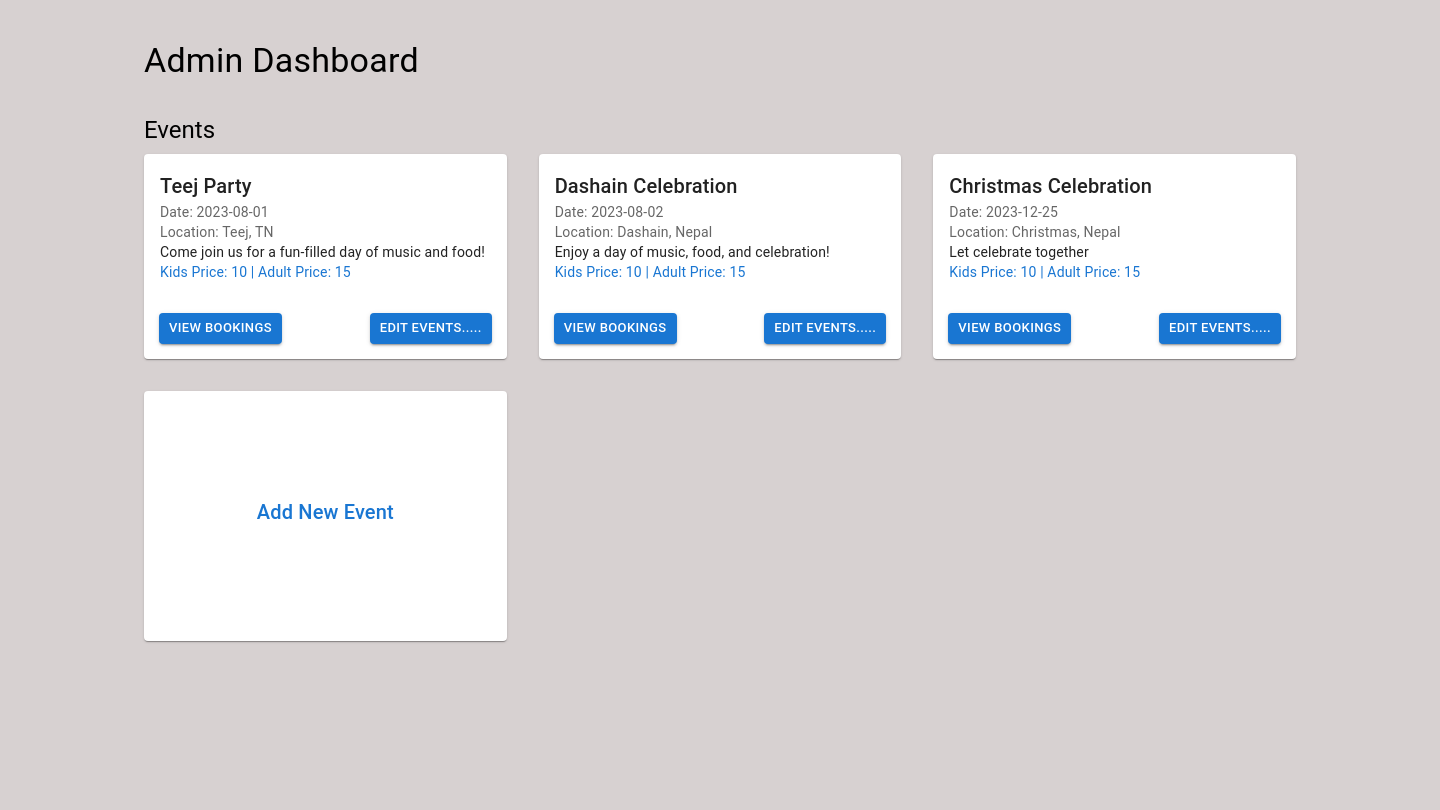
Scenario: Add Event Functionality › should close the modal when cancel button is clicked
The image size is (1440, 810).
Check: the heading "Teej Party" is shown, box [160,174,252,198]
Click the element with test id "add-event-button".
click(325, 512)  # box [257,500,394,524]
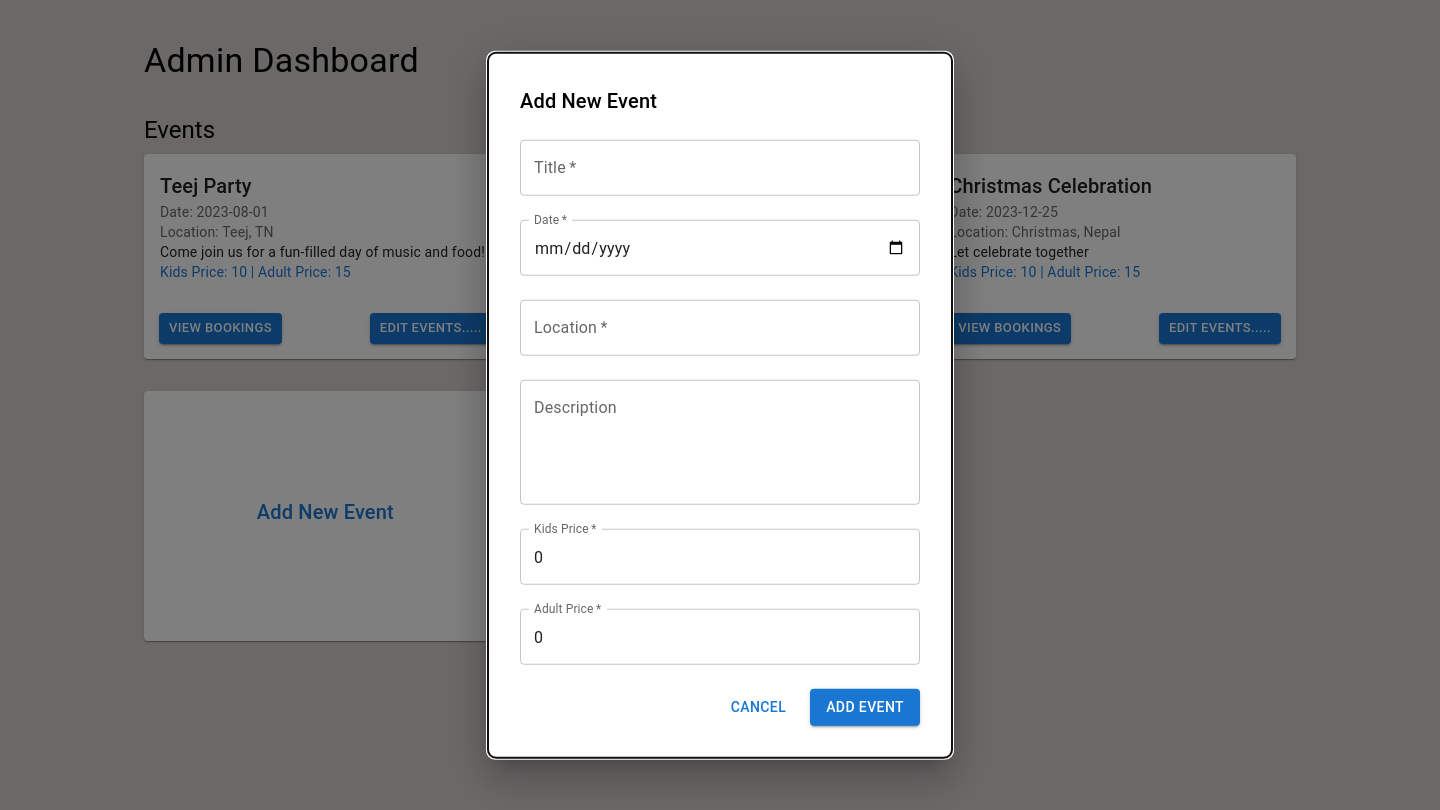
Check: the element with test id "add-event-modal" is shown
Click the button with test id "cancel-button".
click(758, 707)  # box [723,689,794,725]
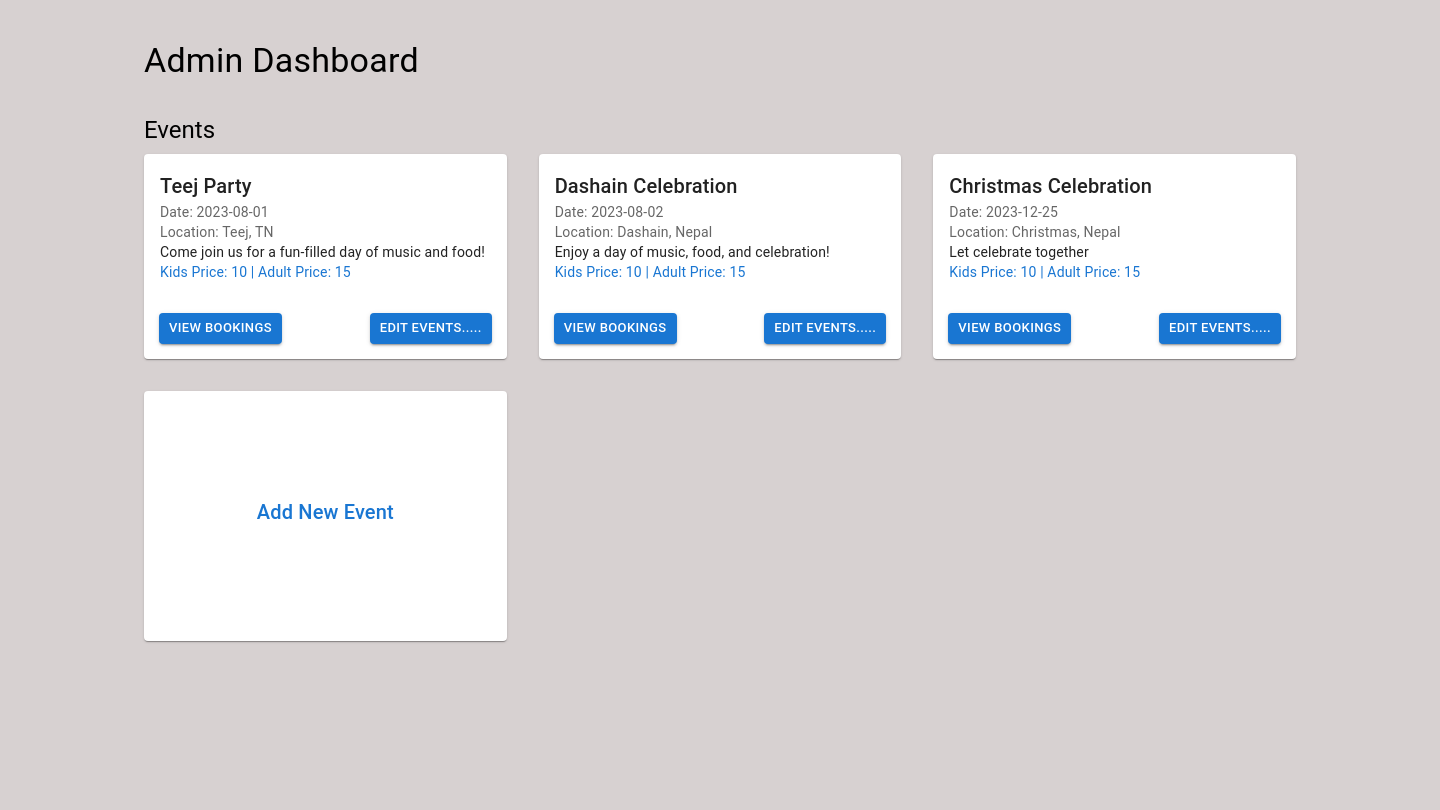
Check: the element with test id "add-event-modal" is gone
